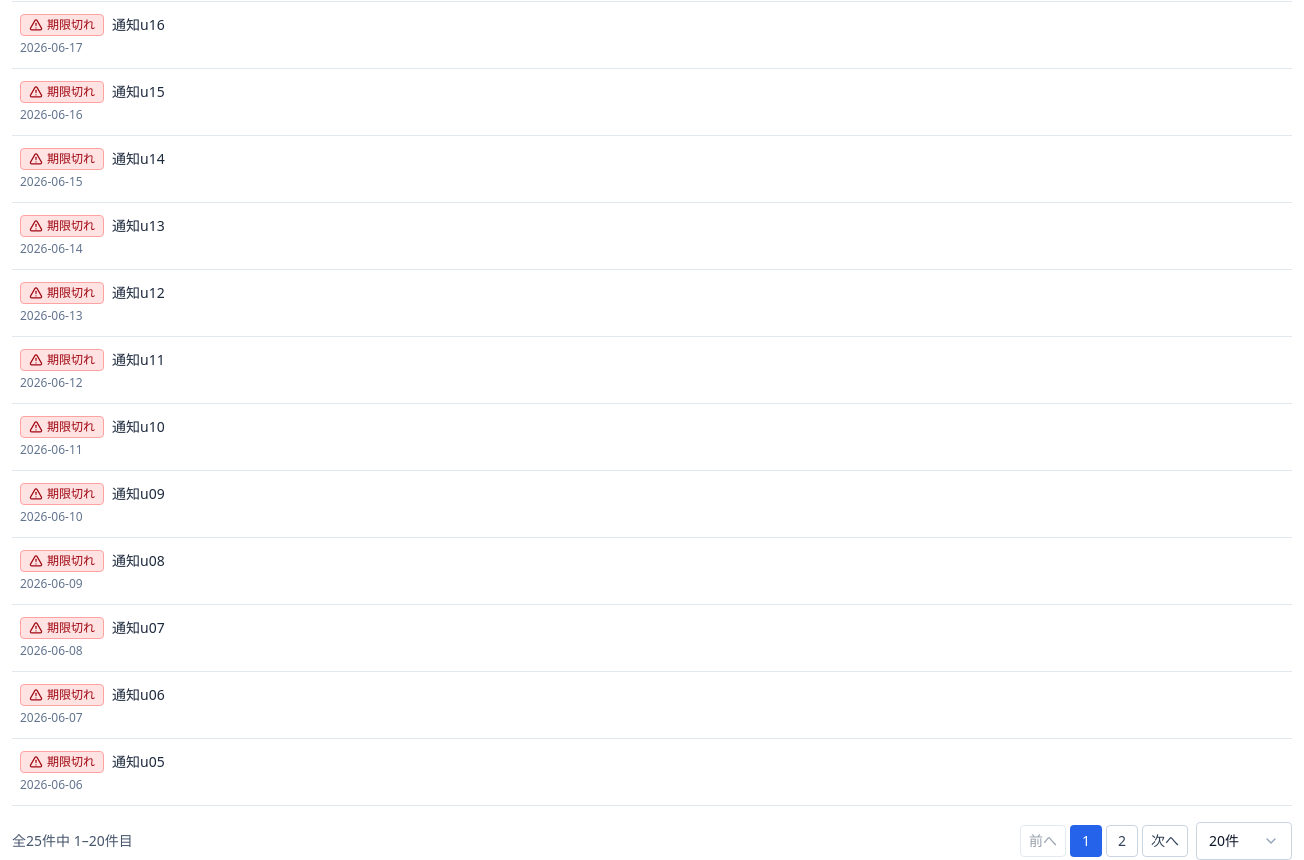
Scenario: NotificationCenter: ページネーション › 次へ押下でページが切り替わり表示件が変わる
(page scrolled)
Check: the text "通知u00" is not shown
What coordinates should you click on to do the following:
click the button "次へ"
I would click on:
 (1165, 841)
Its box is [1142,825,1188,857].
(page scrolled)
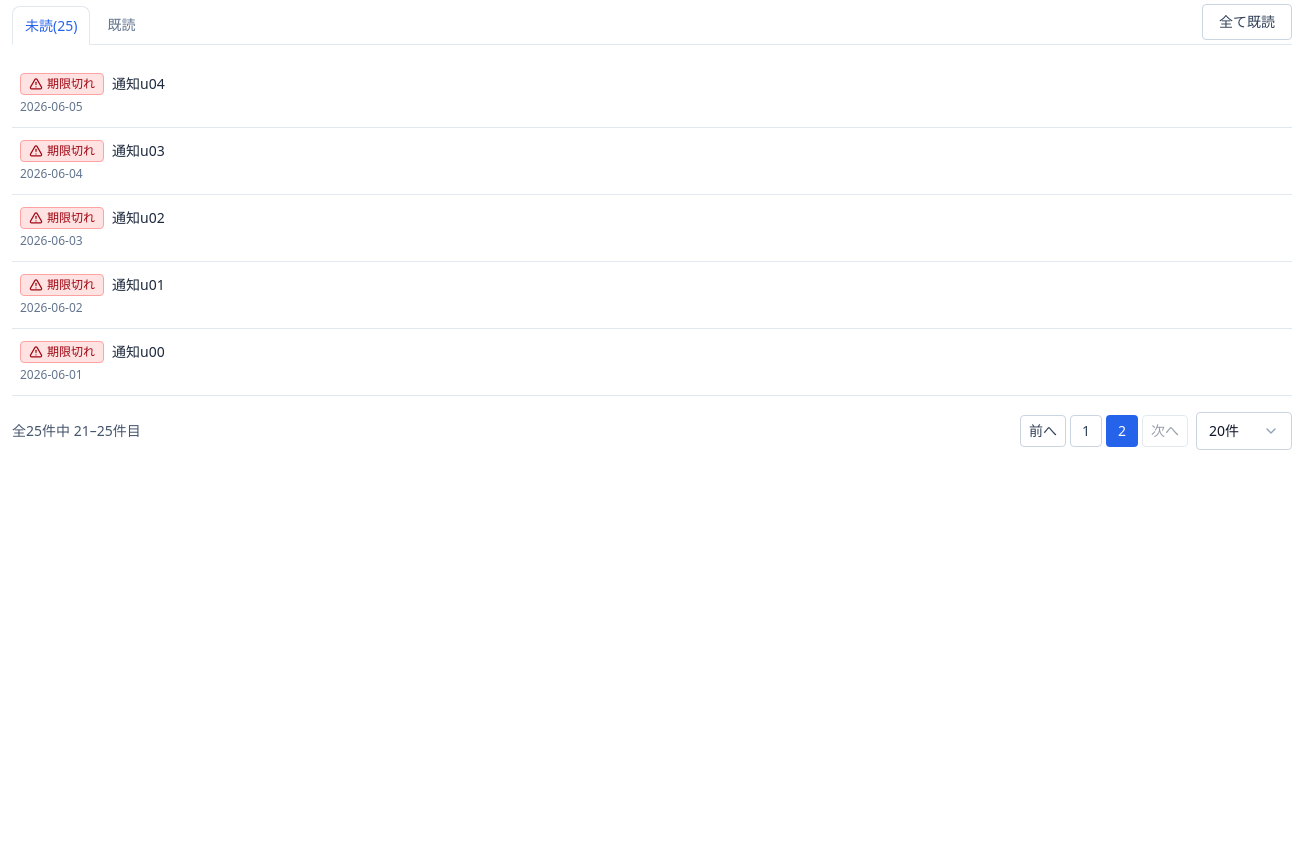
Check: the text "通知u00" is shown, box [112,342,165,362]
